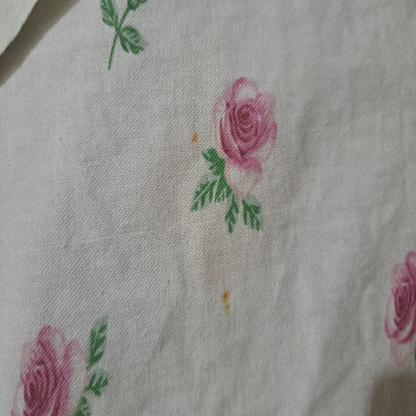spot: (218, 280, 238, 326), (186, 129, 205, 147)
